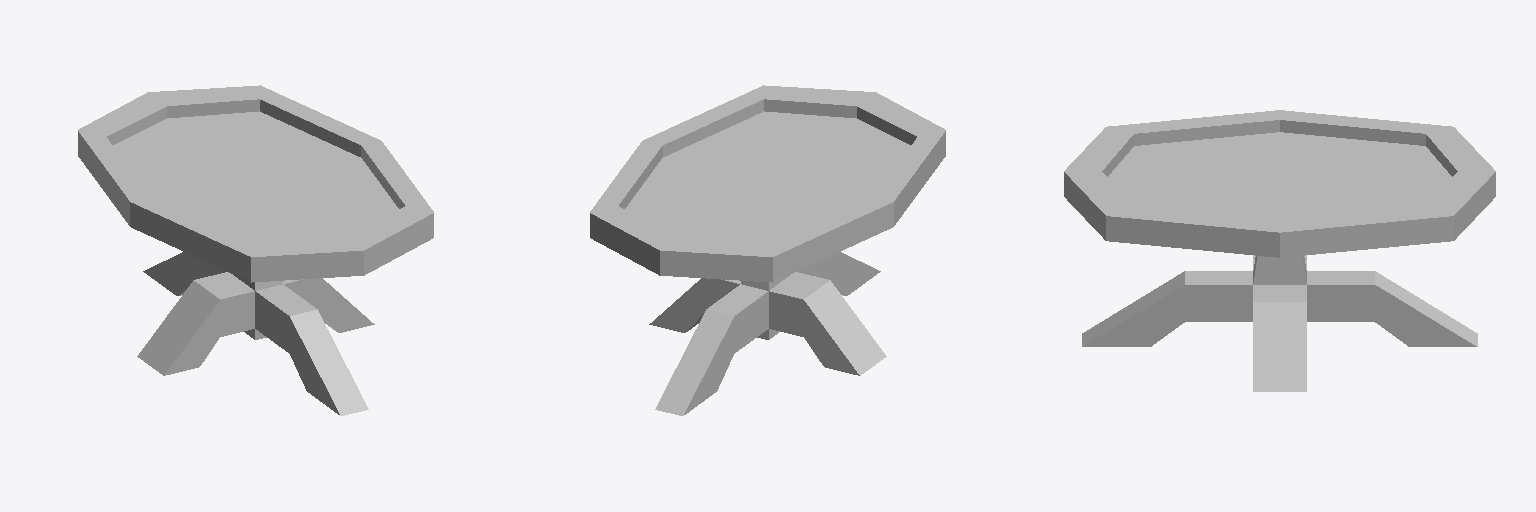
File: PokerTable.obj
3 renders of one model, left to right at view 1: azimuth 30°, elevation 25°; view 2: azimuth 150°, elevation 25°; view 3: azimuth 270°, elevation 25°, orthographic.
Visible parts, largest first — view 1: pCube1; view 2: pCube1; view 3: pCube1.
Part boxes in pixels (left/top/right/bottom): pCube1: left=78, top=85, right=433, bottom=415; pCube1: left=590, top=85, right=945, bottom=415; pCube1: left=1064, top=110, right=1495, bottom=391.
Bounding box in the file's own units: 10.1 × 6.5 × 15.06.